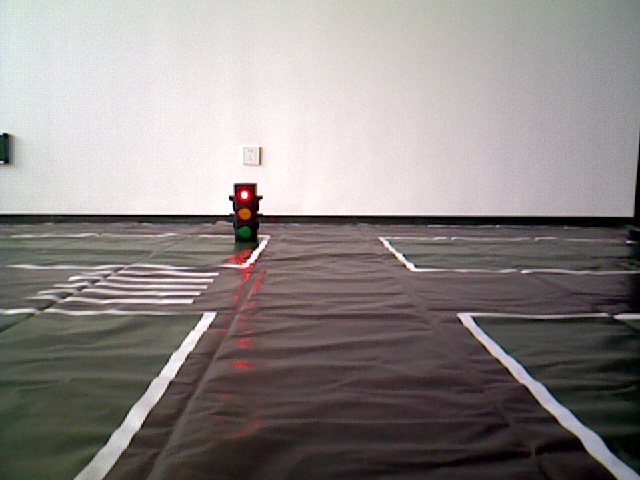red: (231, 186, 257, 240)
